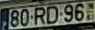0: (19, 8, 30, 27)
6: (73, 2, 85, 22)
8: (9, 9, 19, 28)
9: (63, 3, 74, 23)
D: (45, 5, 59, 25)
R: (34, 6, 46, 26)
